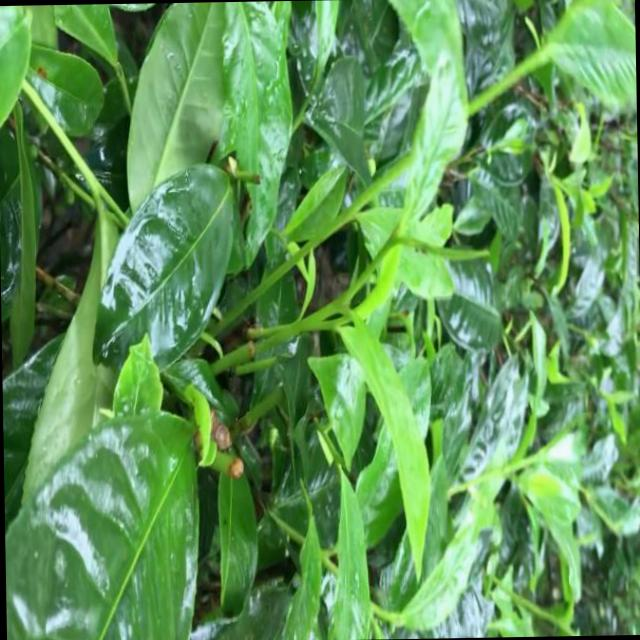Stem: (388, 235, 398, 247), (325, 320, 336, 328)
